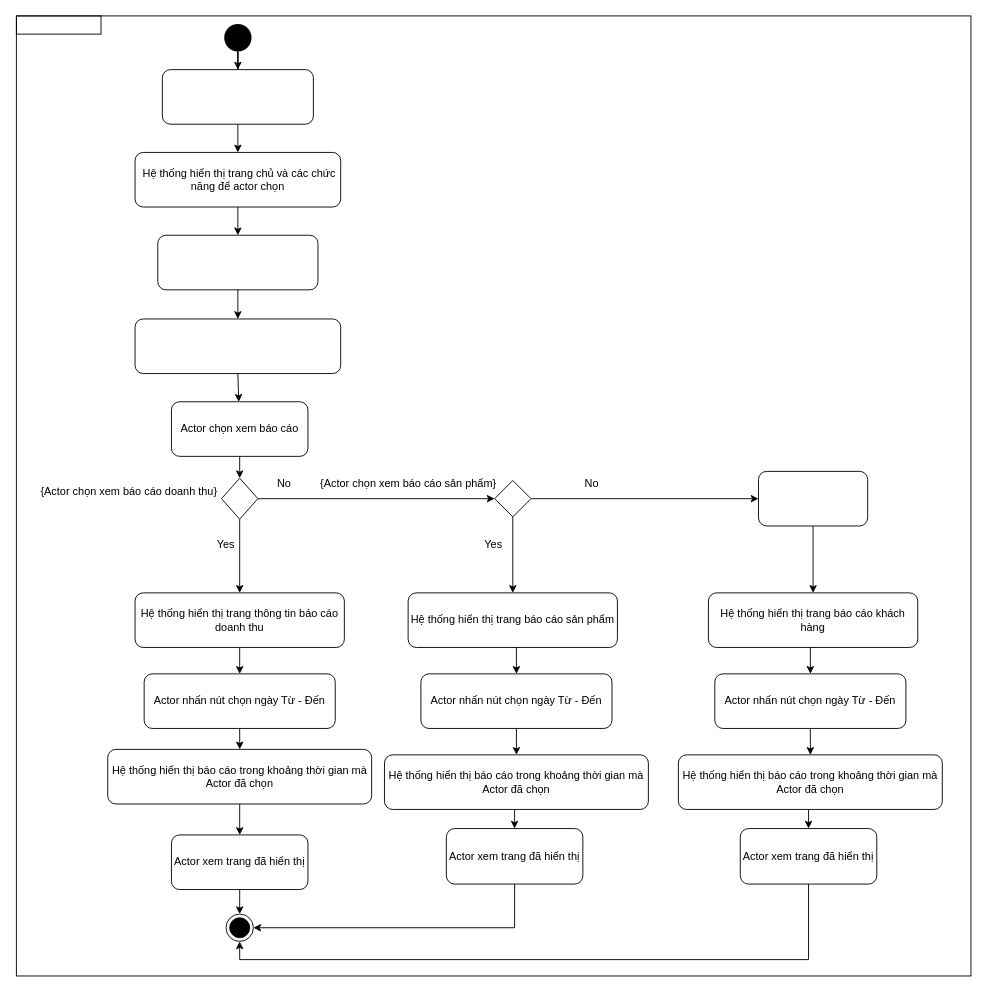
This 986x992 diagram has some shape labels left out. The centre of each missing label's shape, as x and y in pixels:
Activity Diagram: the point at 58,24
Actor chọn chức năng báo cáo: the point at 237,262
Actor đăng nhập vào hệ thống: the point at 237,96
Chọn xem bao cáo khách hàng: the point at 813,498
Hệ thống hiển thị menu item các báo cáo cho actor lựa chọn: the point at 237,346
